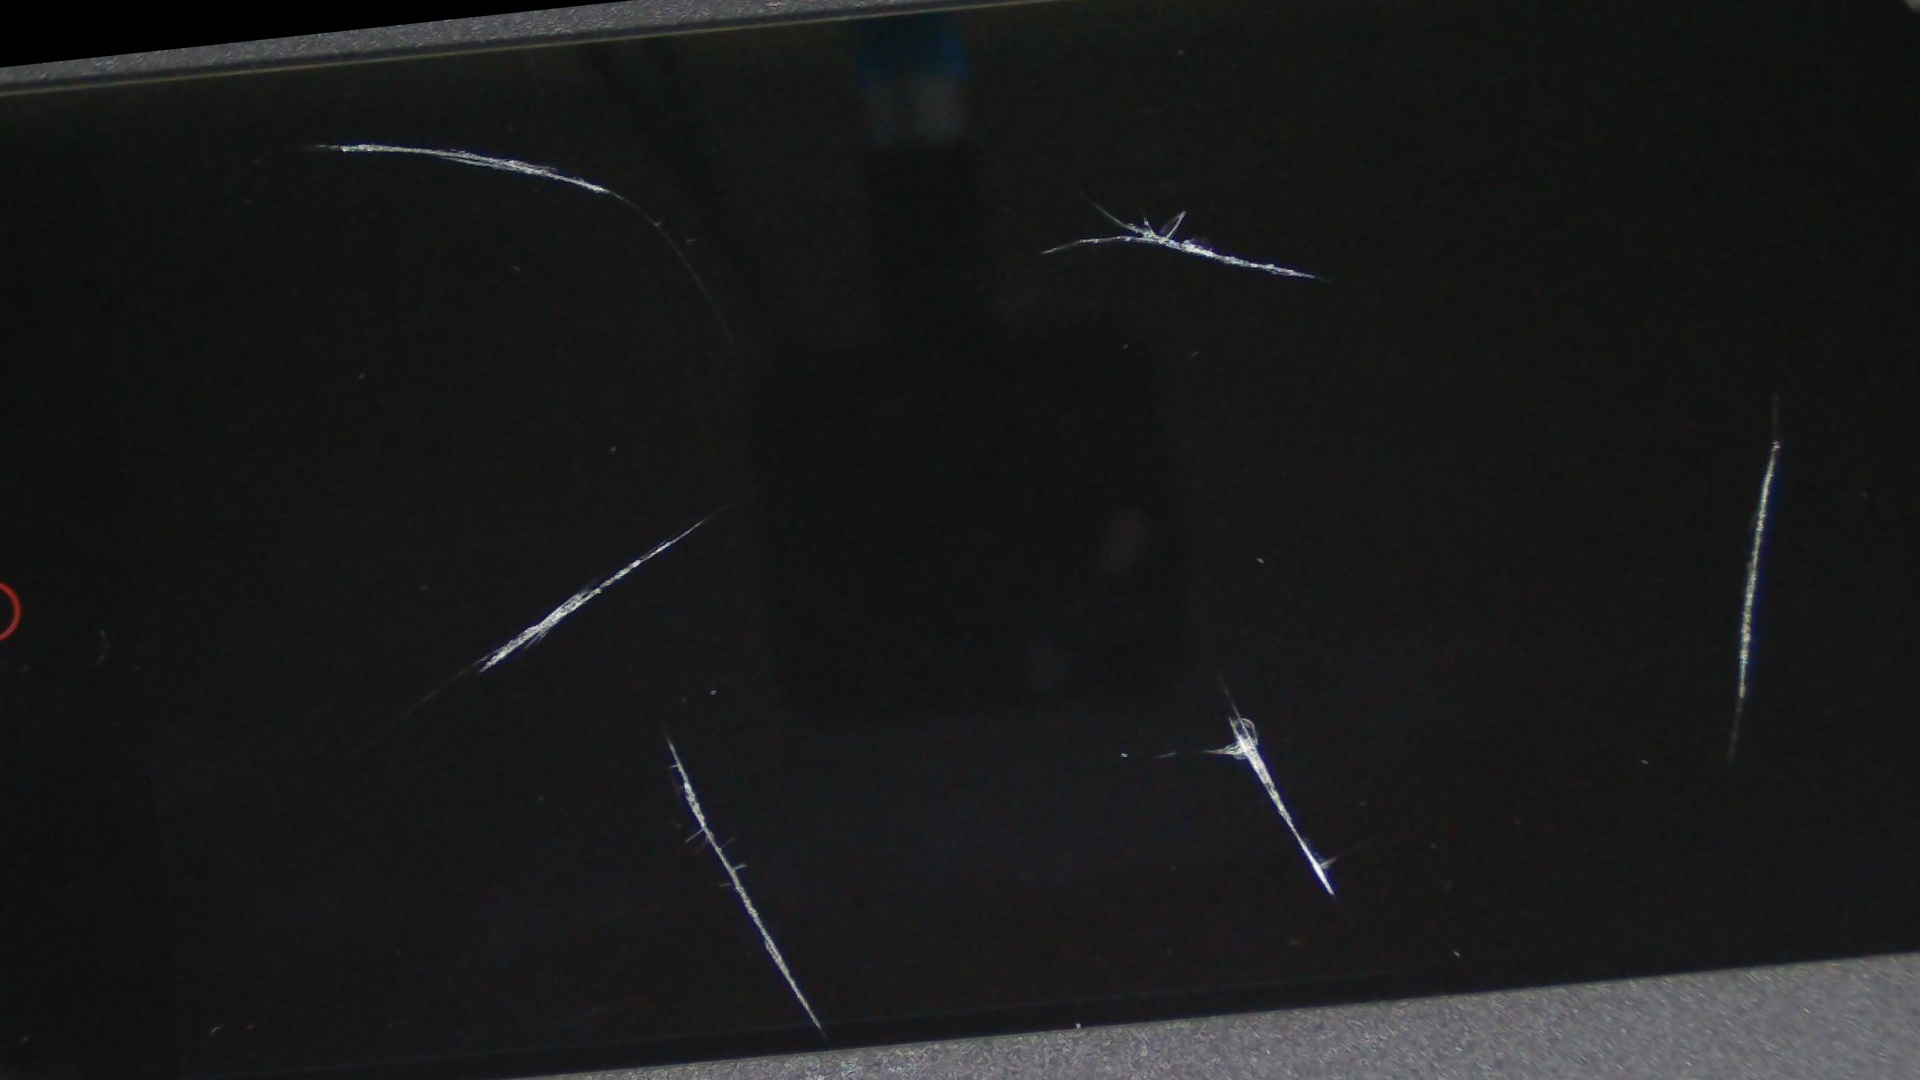oil: (505, 244, 1920, 1080), (778, 129, 1920, 819), (225, 328, 1112, 1080), (245, 211, 1168, 823), (439, 9, 1750, 397), (47, 61, 580, 227)
